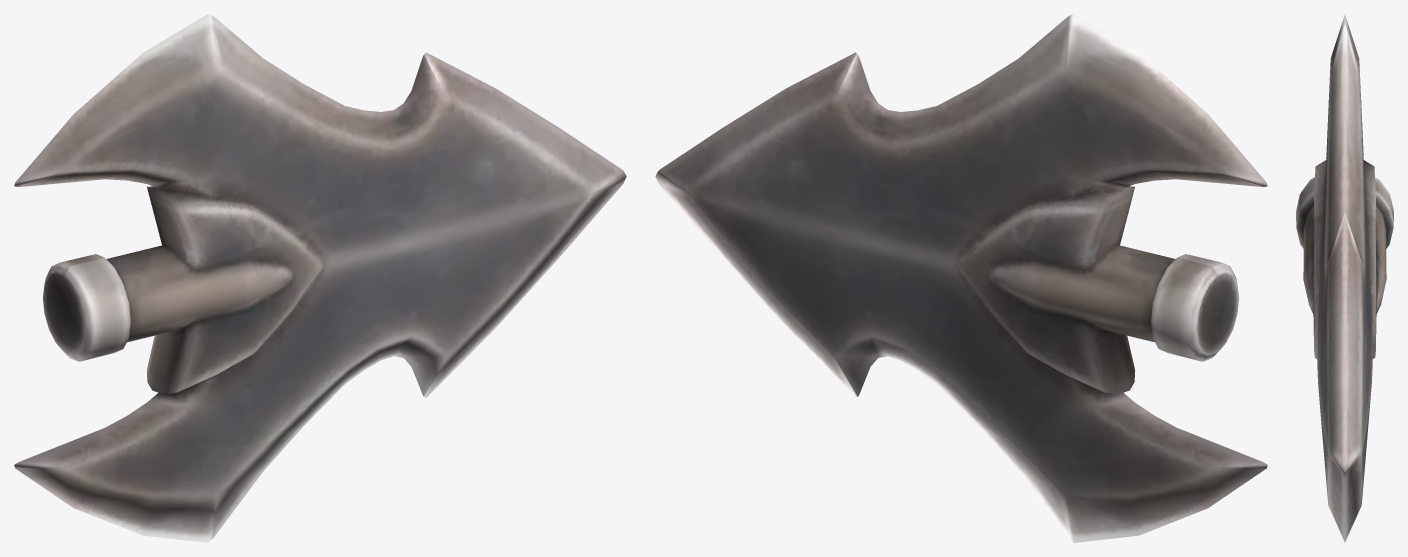
3 renders of one model, left to right at view 1: azimuth 30°, elevation 25°; view 2: azimuth 150°, elevation 25°; view 3: azimuth 270°, elevation 25°, orthographic. The views are drawn at different scales.
Parts seen in each view (by area): view 1: SM_BroadheadArrowHead_Steel_01_LOD0; view 2: SM_BroadheadArrowHead_Steel_01_LOD0; view 3: SM_BroadheadArrowHead_Steel_01_LOD0.
Boxes of the visible parts, x1,y1,x2,y2 form: SM_BroadheadArrowHead_Steel_01_LOD0: (14,14,626,542); SM_BroadheadArrowHead_Steel_01_LOD0: (655,14,1267,542); SM_BroadheadArrowHead_Steel_01_LOD0: (1296,15,1393,542).
Bounding box in the file's own units: 0.1507 × 0.1244 × 0.0218.
Materials: 1 (1 with a texture image).
